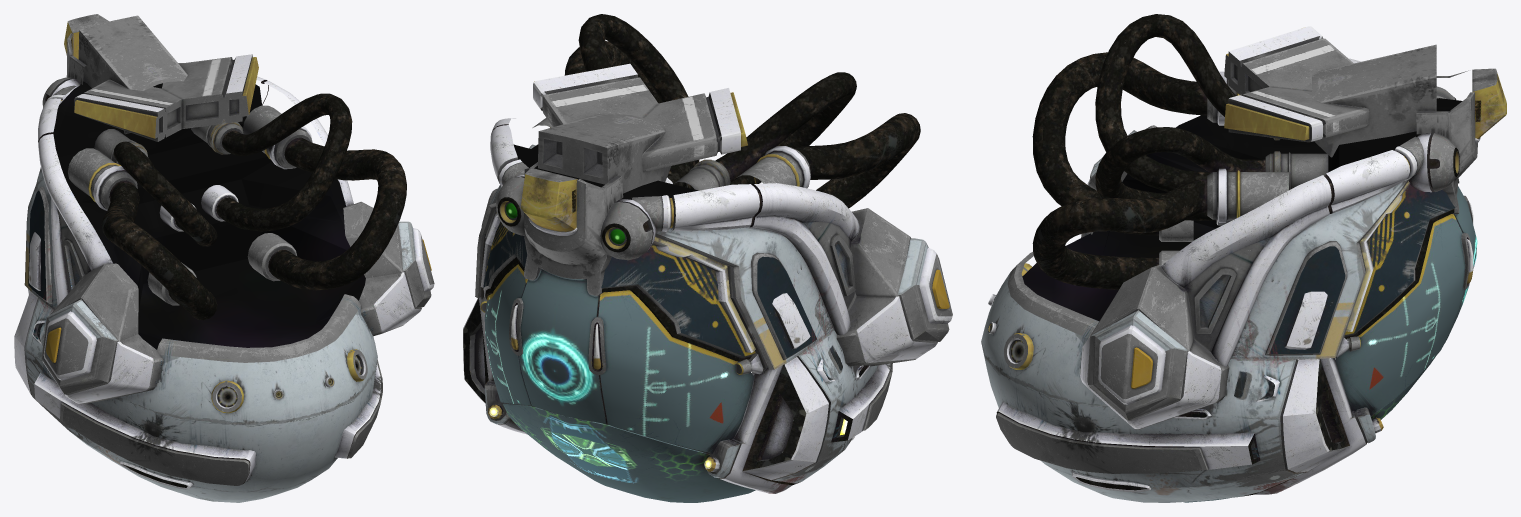
The model's file is DamagedHelmet.glb.
3 views of the same model, side by side, from view 1: azimuth 30°, elevation 25°; view 2: azimuth 150°, elevation 25°; view 3: azimuth 270°, elevation 25° (orthographic). The views are drawn at different scales.
Visible parts, largest first — view 1: node_damagedHelmet_-6514; view 2: node_damagedHelmet_-6514; view 3: node_damagedHelmet_-6514.
Boxes of the visible parts, bbox=[...] form: node_damagedHelmet_-6514: bbox=[14, 14, 434, 502]; node_damagedHelmet_-6514: bbox=[463, 14, 952, 502]; node_damagedHelmet_-6514: bbox=[981, 14, 1506, 502].
Bounding box in the file's own units: 1.89 × 1.8 × 2.
1 material, 1 textured.
